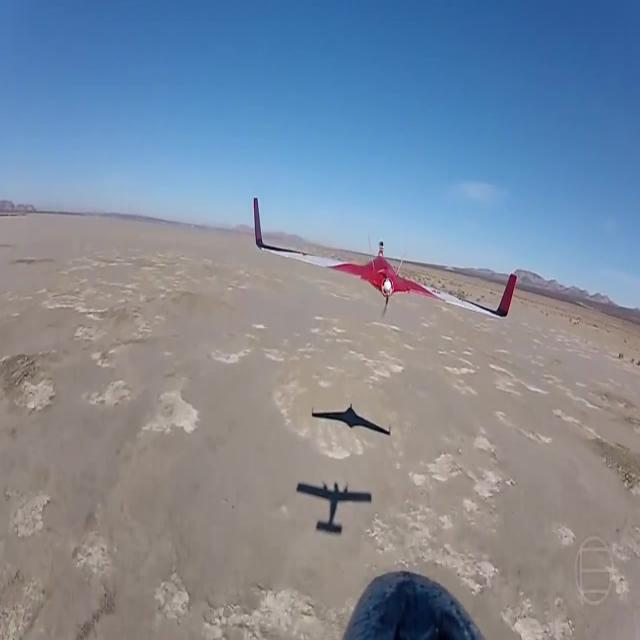iha: (253, 224, 515, 287)
